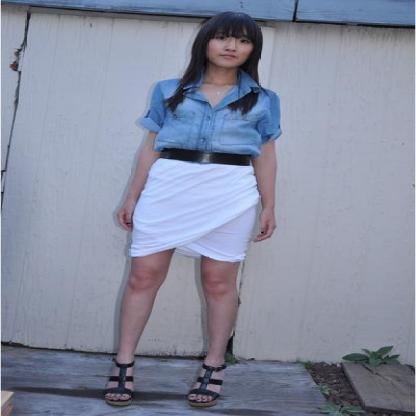shirt: (139, 75, 281, 153)
shoe: (88, 341, 250, 399)
skirt: (130, 158, 258, 261)
